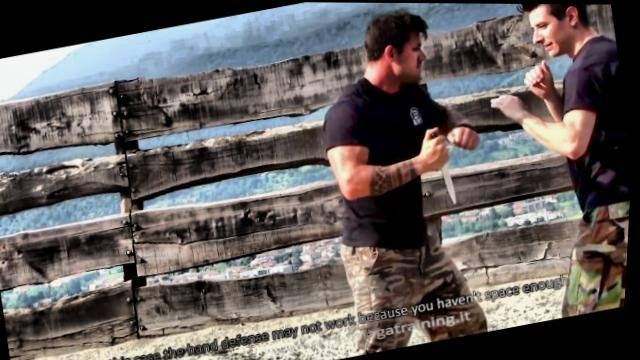knife: (418, 130, 466, 209)
